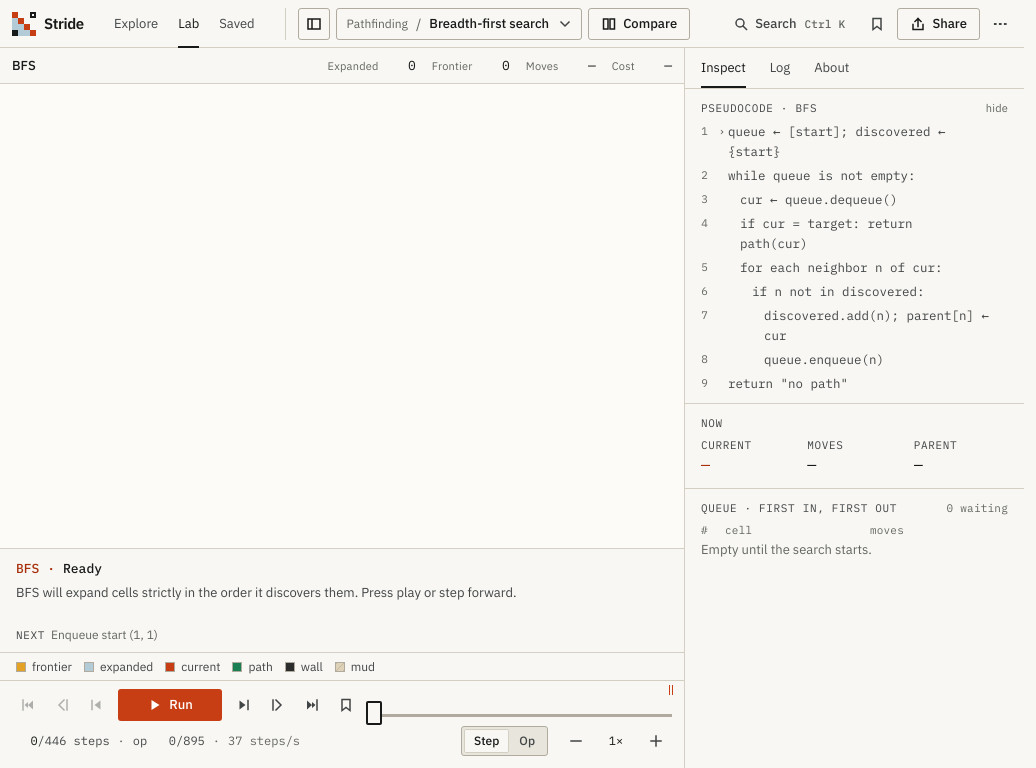
Test case: lab › renders only the active inspector panel
The width and height of the screenshot is (1036, 768).
Expected: the slider named "Timeline position" is shown, [366,701,382,725]
Expected: the number of panels is 1, [685,89,1024,767]
Press the mouse on the tab "About": (832, 68) [802,48,861,88]
(page scrolled)
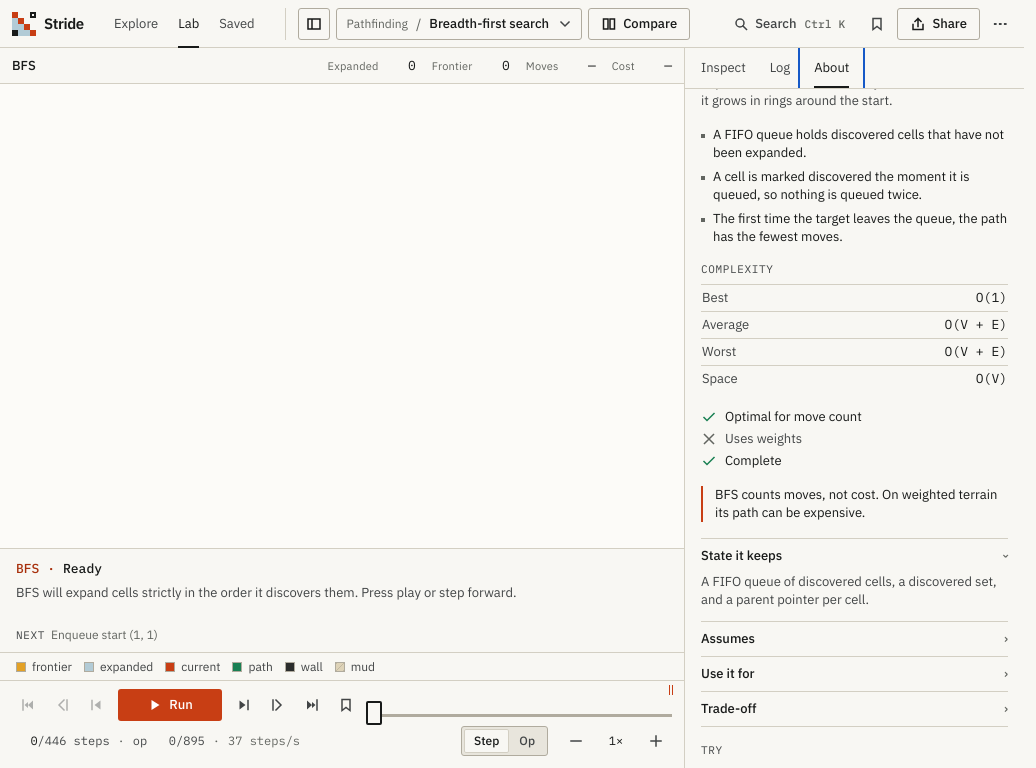
Now the number of panels is 1, box [685,89,1024,767]
Now the panel shows "Complexity", box [701,262,774,276]
